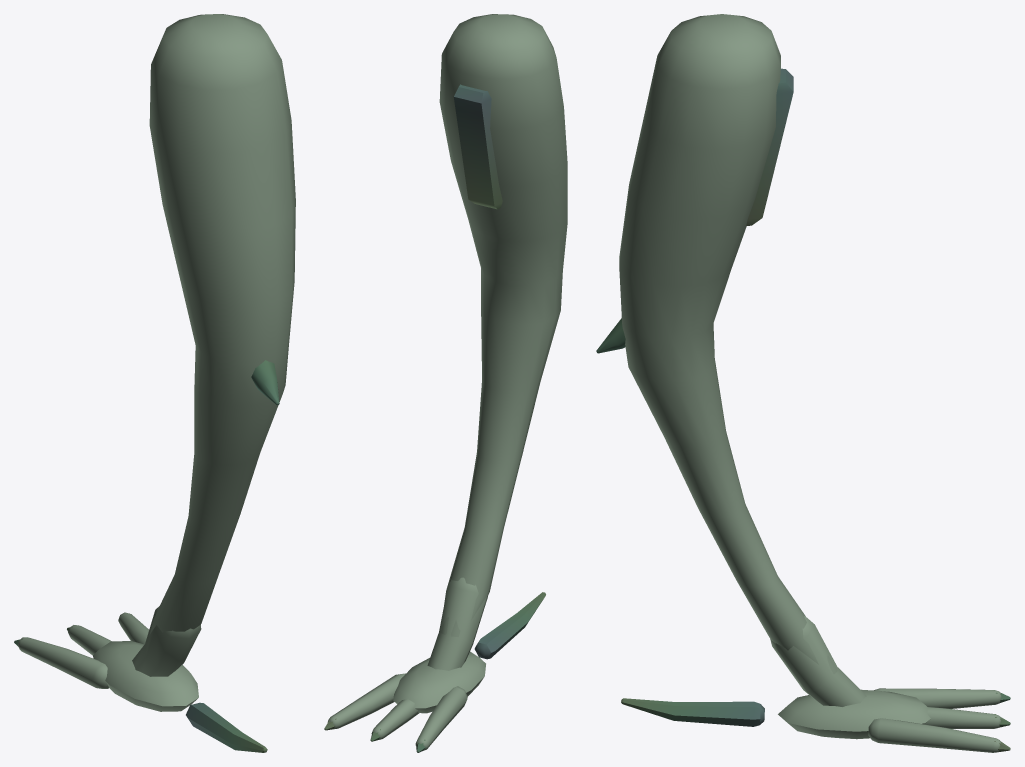
The model's file is shin_r.glb.
3 views of the same model, side by side, from view 1: azimuth 30°, elevation 25°; view 2: azimuth 150°, elevation 25°; view 3: azimuth 270°, elevation 25° (orthographic). The views are drawn at different scales.
Visible parts, largest first — view 1: OUT; view 2: OUT; view 3: OUT.
Boxes of the visible parts, <box> form: OUT: <box>14,14,295,752</box>; OUT: <box>324,14,567,752</box>; OUT: <box>596,14,1010,752</box>.
Bounding box in the file's own units: 0.089 × 0.494 × 0.2616.
